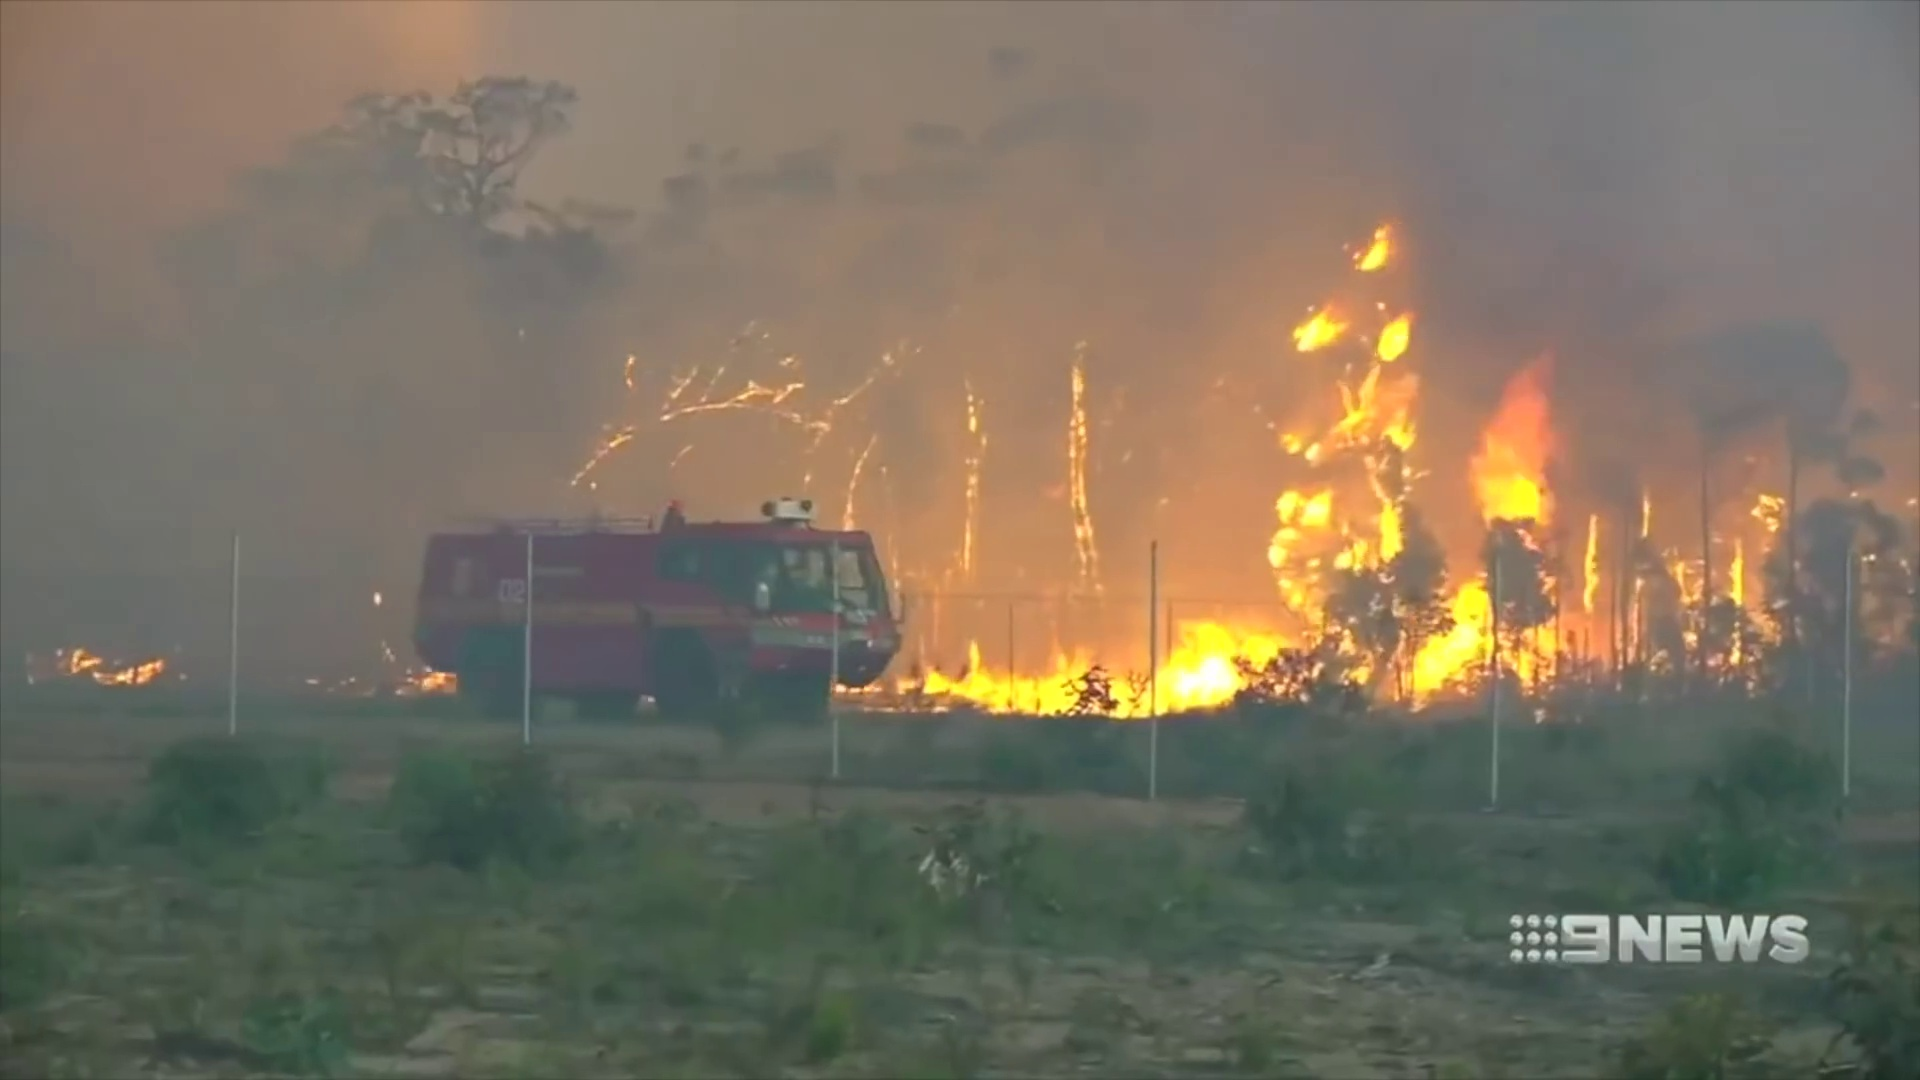fire: (1272, 307, 1415, 593), (952, 635, 1306, 716), (1463, 369, 1566, 532), (1403, 581, 1501, 706), (1067, 358, 1096, 567), (61, 647, 167, 680), (960, 390, 980, 553), (1581, 520, 1601, 618), (1361, 223, 1393, 278), (1726, 538, 1747, 601)
